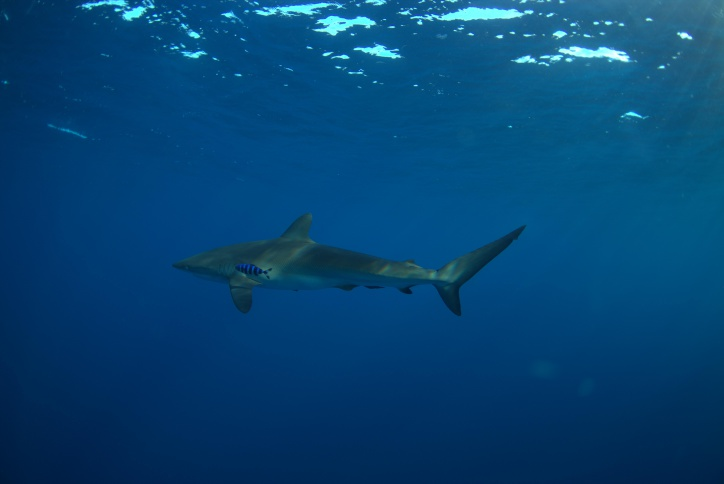Sedoso: (165, 204, 539, 324)
